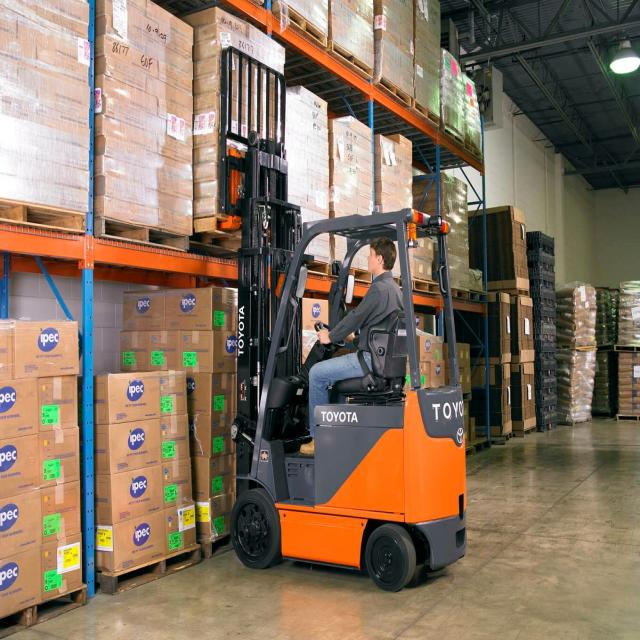Person: (300, 238, 404, 454)
